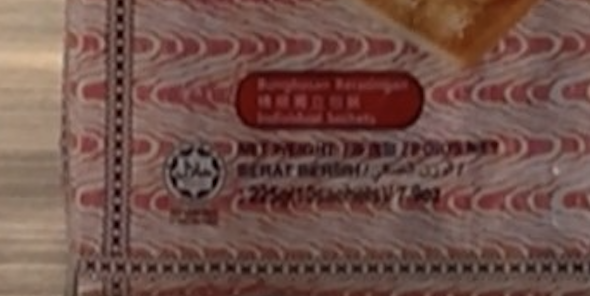halal: (175, 151, 217, 196)
